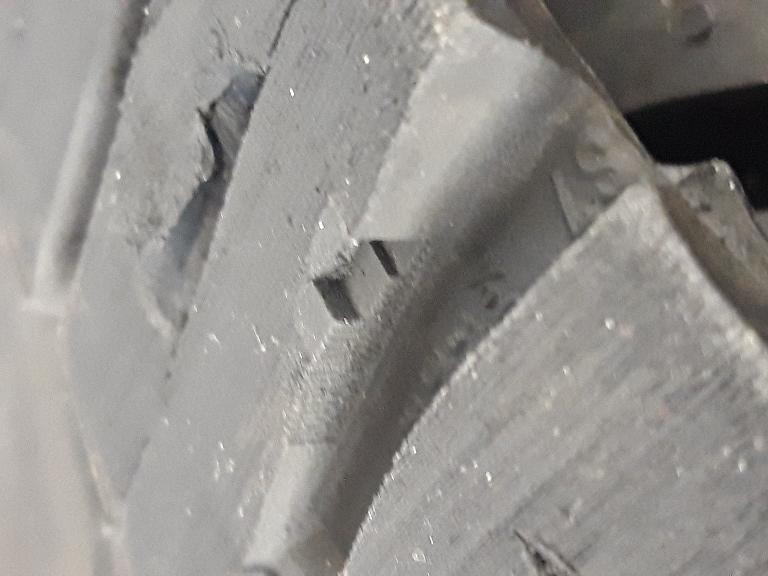temoin:50: (284, 180, 448, 383)
